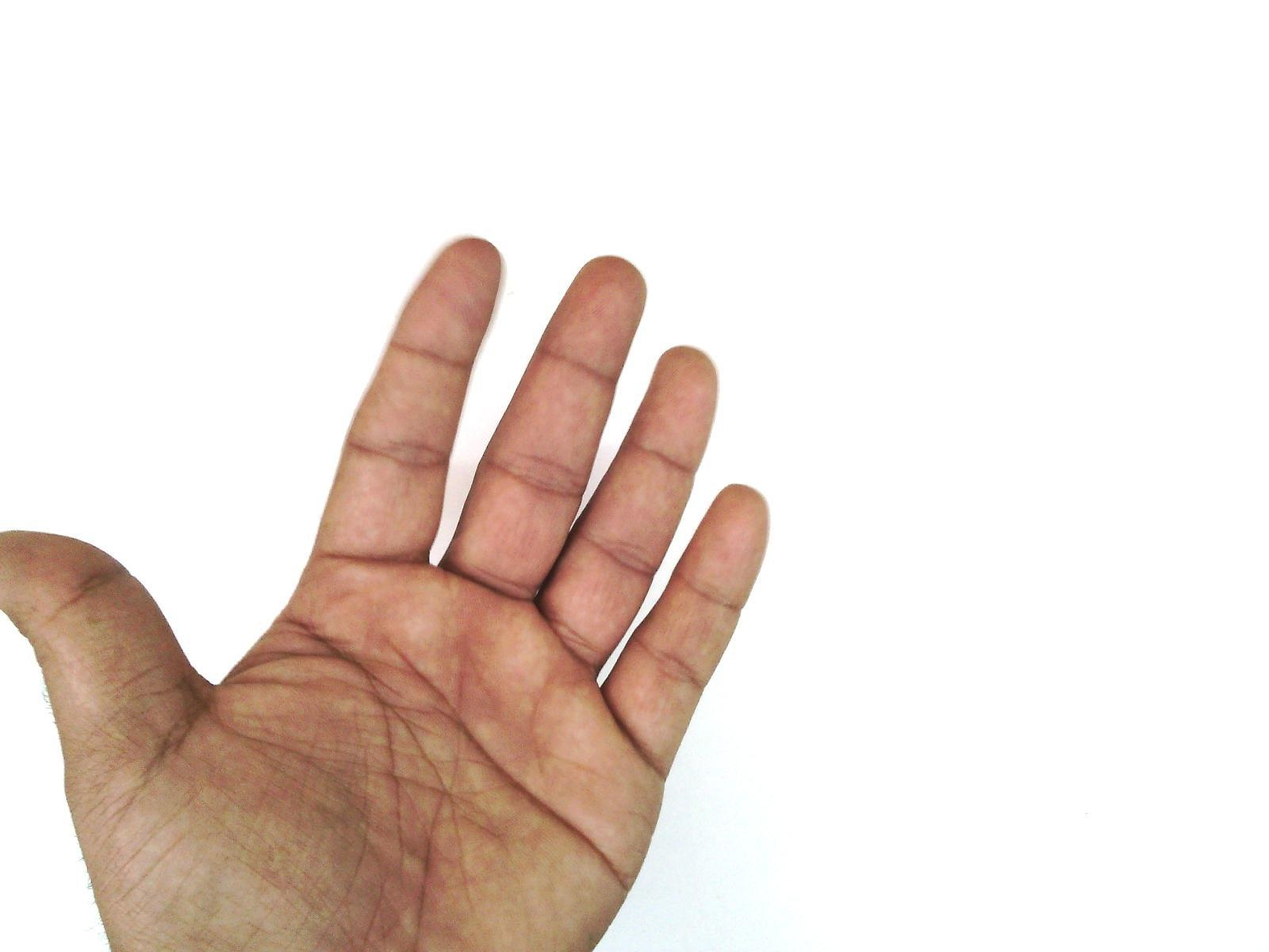open_palm: (3, 235, 773, 951)
